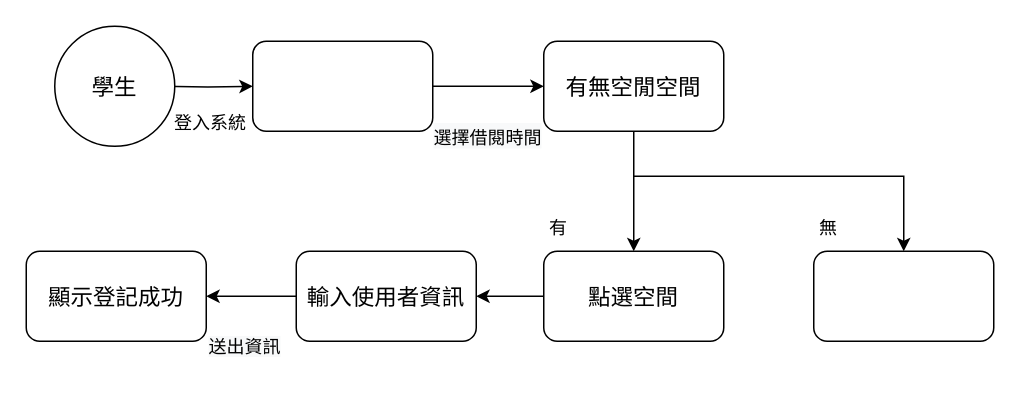
The diagram is 1020 pixels wide and 413 high, and some of its shapes have lost their labels. Each missing label, with the centre of its shape:
"無法預約" belongs at point (903, 295).
"點選空間預約" belongs at point (342, 85).
